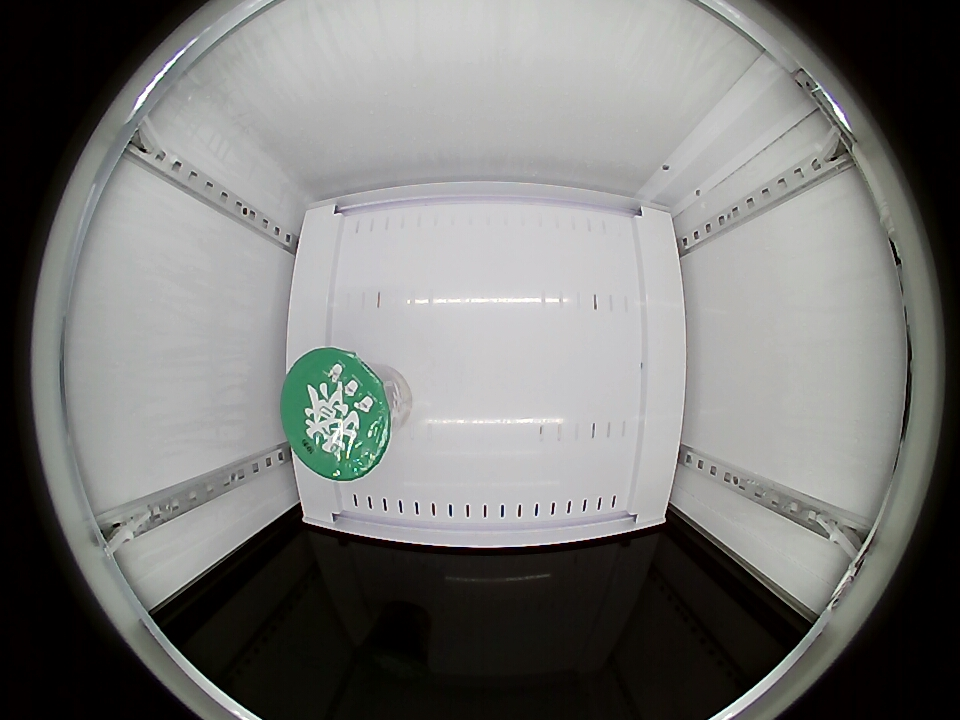liaomian: (281, 348, 397, 481)
